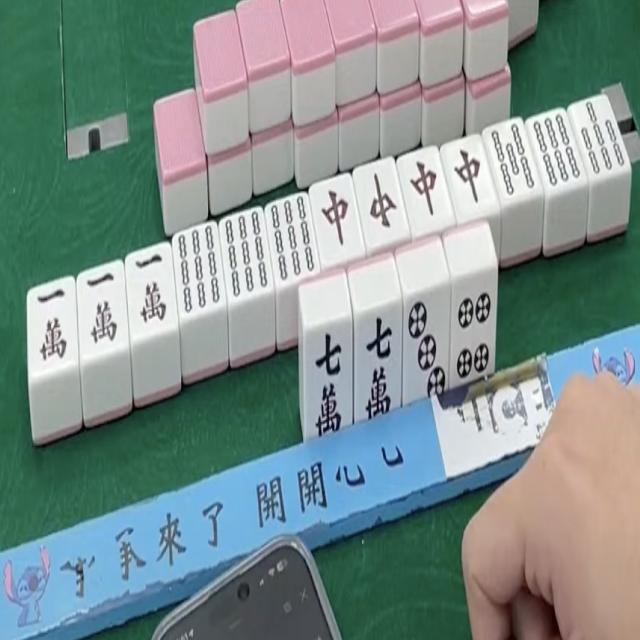m1: (23, 279, 78, 372), (74, 265, 130, 355), (124, 247, 180, 334)
m7: (302, 319, 355, 440), (353, 302, 402, 420)
s5: (485, 120, 539, 200)
s6: (528, 108, 584, 190)
s7: (571, 94, 630, 180)
s9: (168, 222, 229, 318), (217, 206, 275, 302), (262, 190, 320, 284)
t3: (407, 292, 447, 400)
t4: (452, 272, 496, 383)
zhong: (310, 177, 364, 262), (400, 149, 452, 228), (356, 160, 406, 241), (444, 136, 494, 213)
